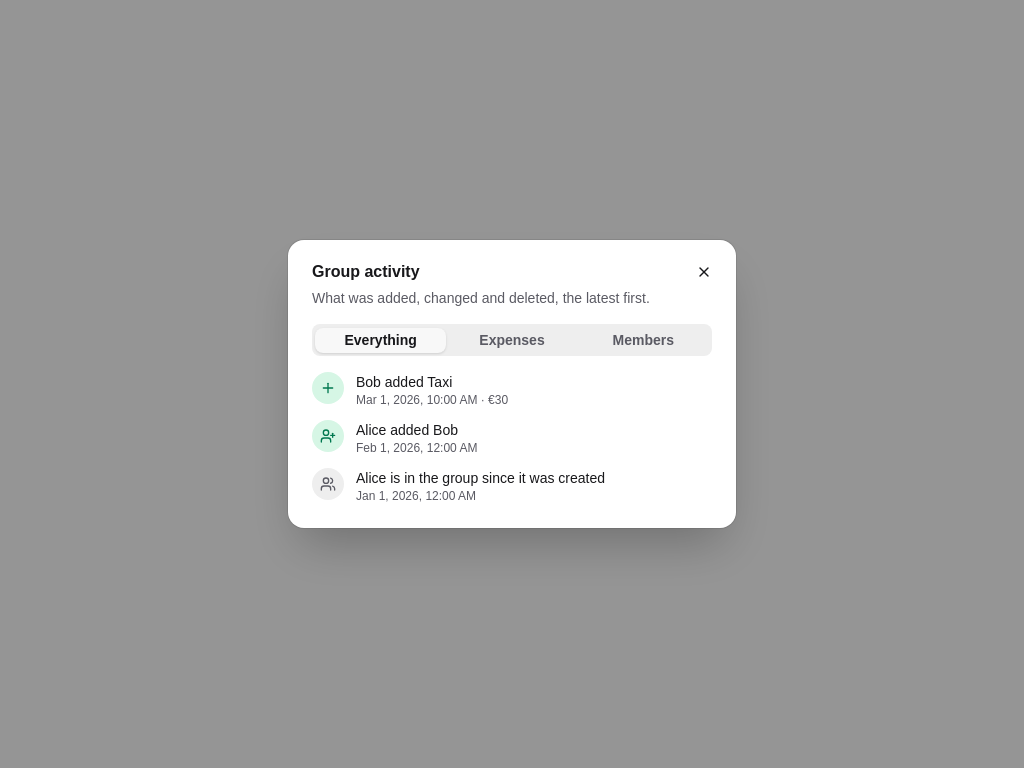
Test: ActivityDialog › shows only the expenses, or only the members
Click the tab "Members" at (643, 340), box x1=578 y1=328 x2=709 y2=352
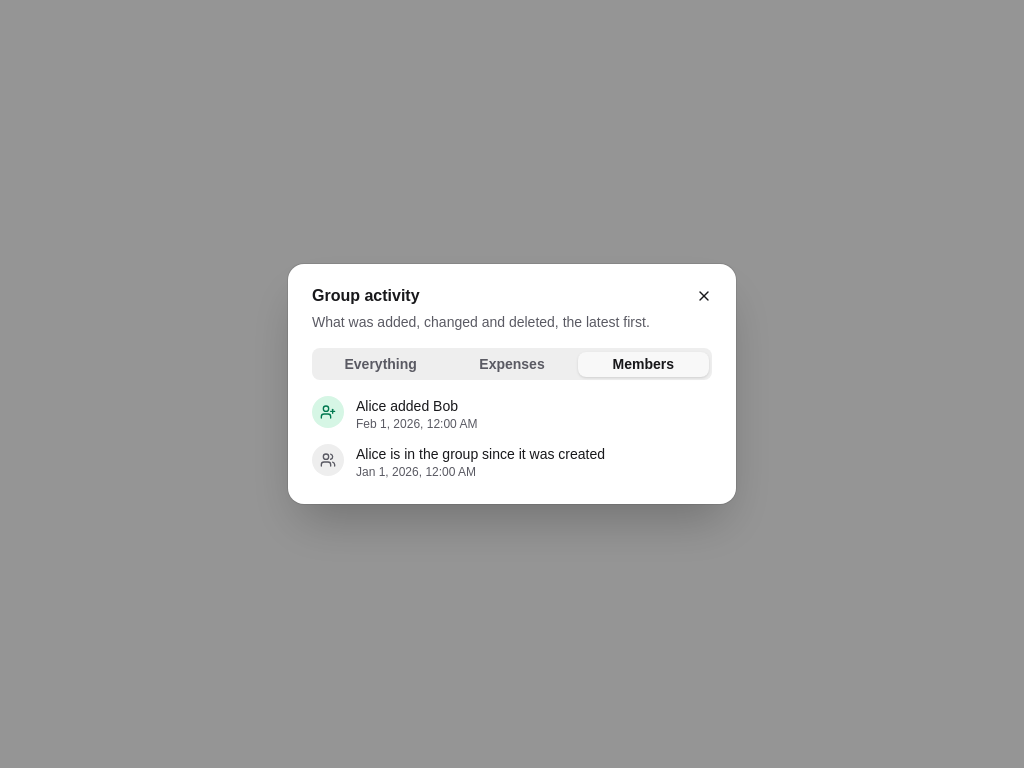
Now the number of list items is 2, box x1=312 y1=396 x2=477 y2=431; x1=312 y1=444 x2=605 y2=479
Click the tab "Expenses" at (512, 364), box x1=446 y1=352 x2=578 y2=376
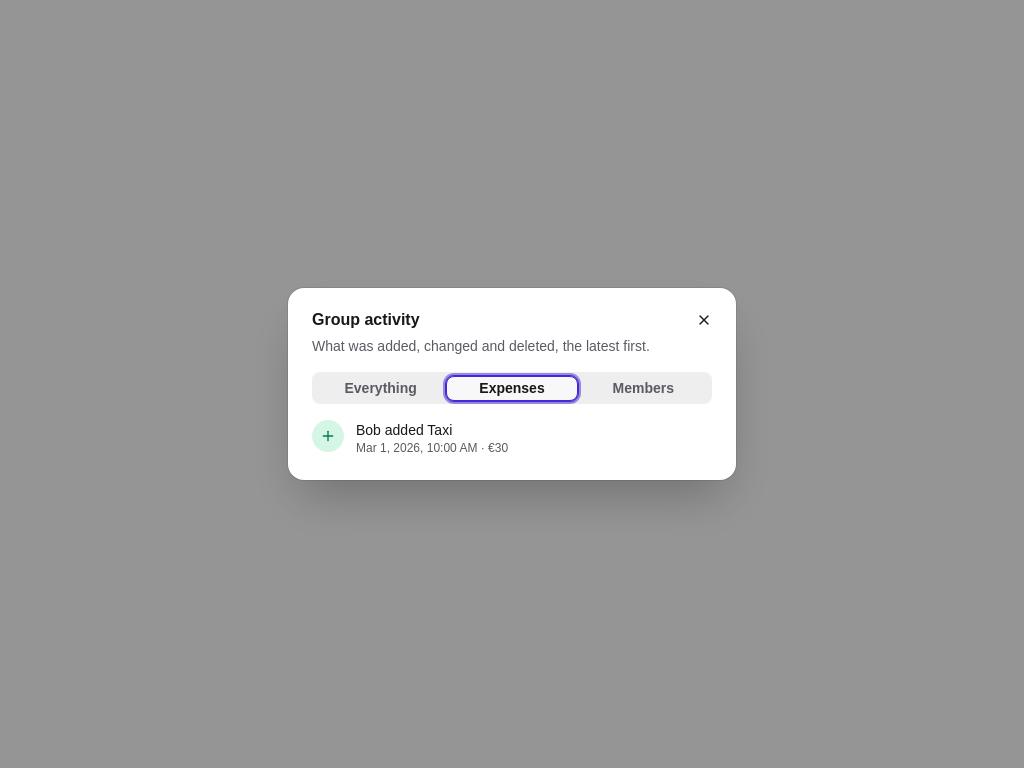
Now the number of list items is 1, box x1=312 y1=420 x2=508 y2=455
